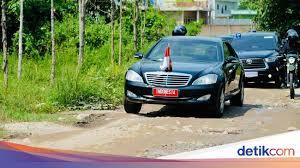Pothole: (240, 91, 284, 115), (190, 122, 240, 139)
